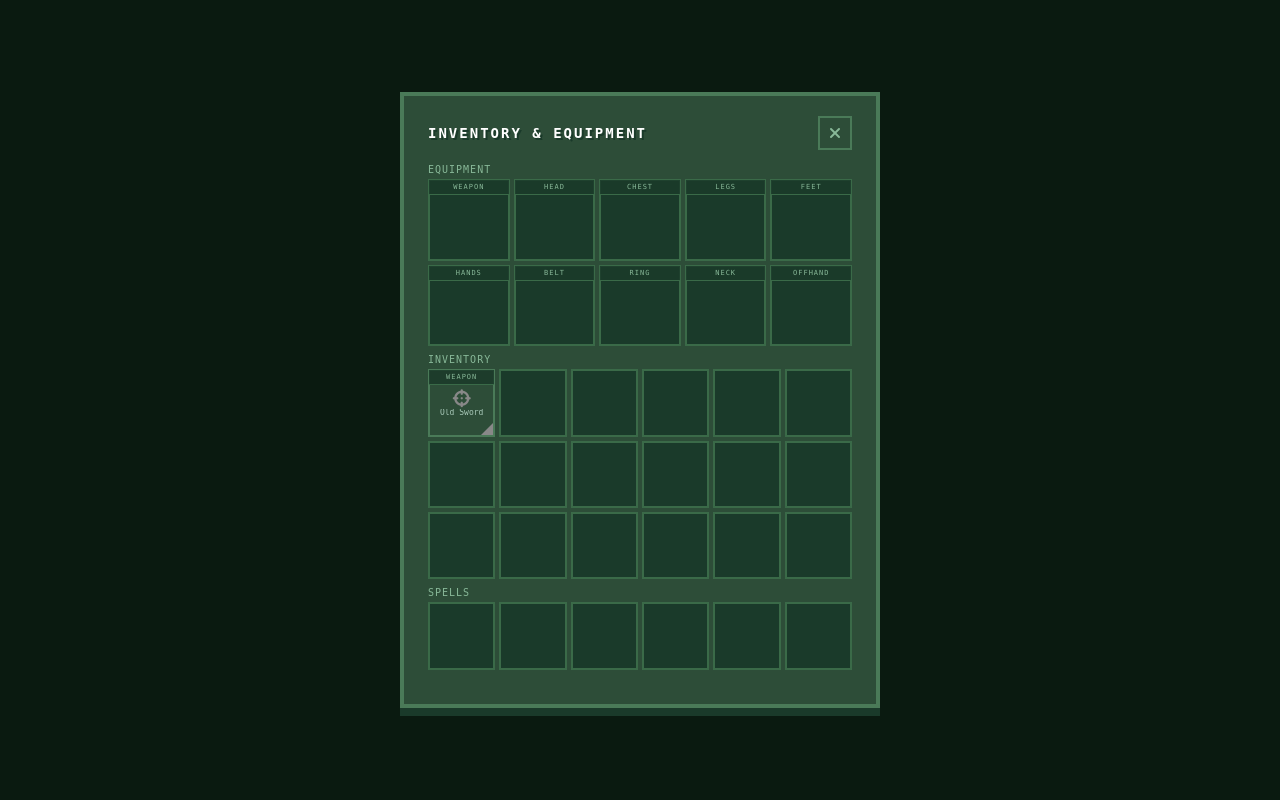
InventoryDialog › cancels abandon and keeps item
Press x in the element showing "Old Sword", box [428,369,495,437]
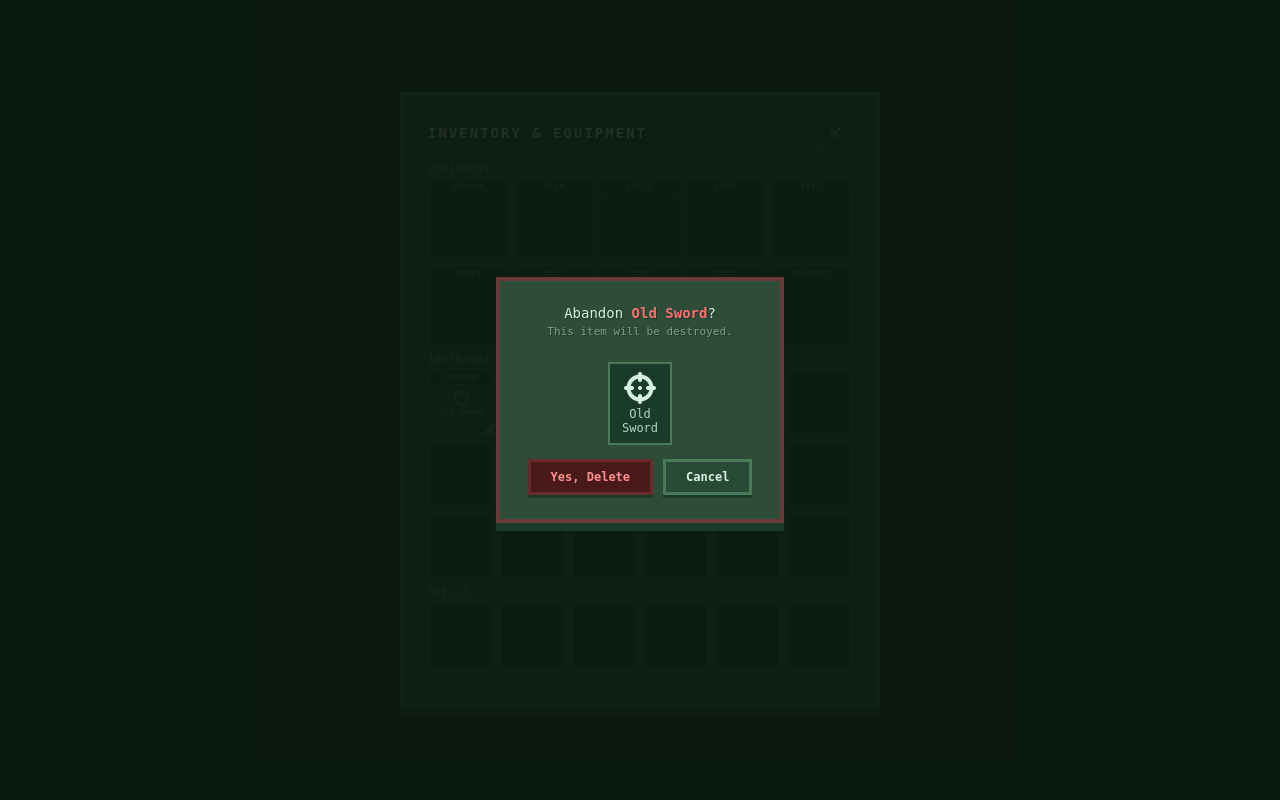
Click the button "Cancel".
click(708, 477)  # box [663,459,752,495]
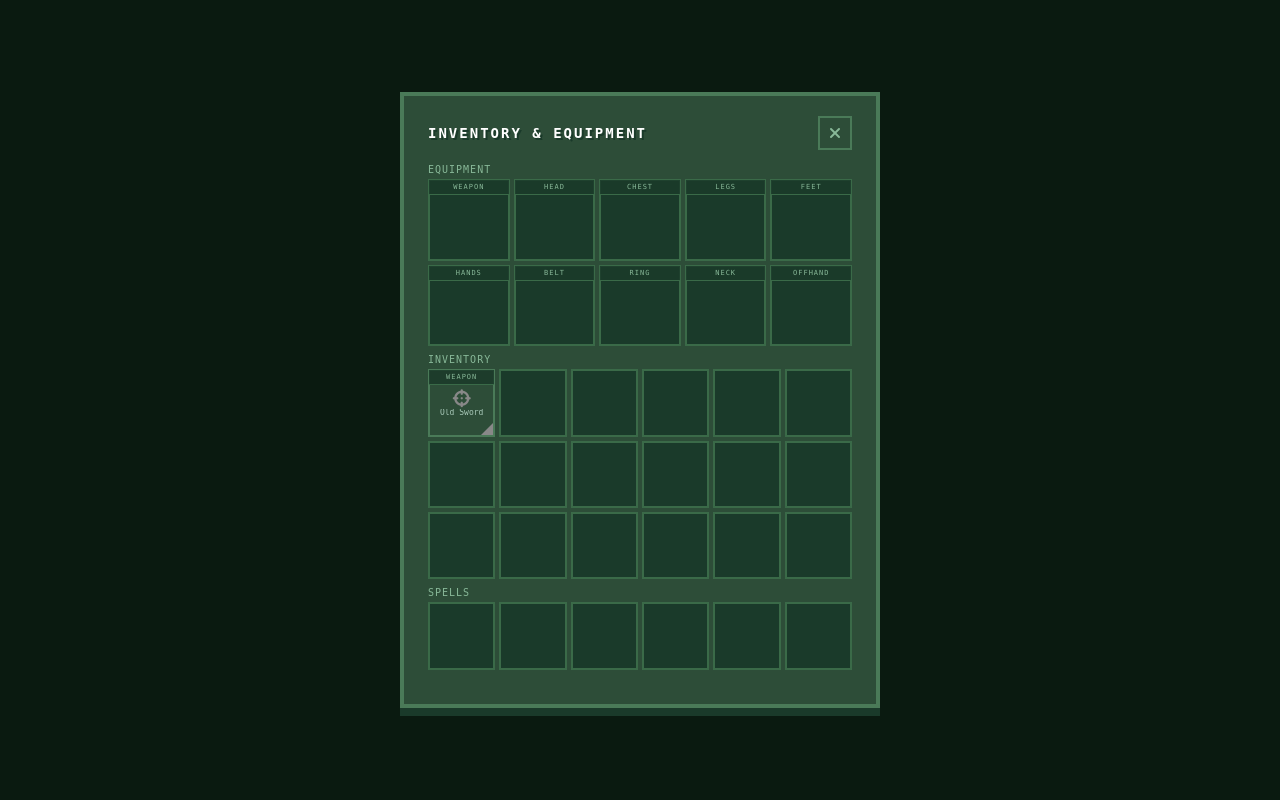
Expected: the text "Old Sword" is shown, [440,409,483,418]
Expected: the button "Yes, Delete" is gone
